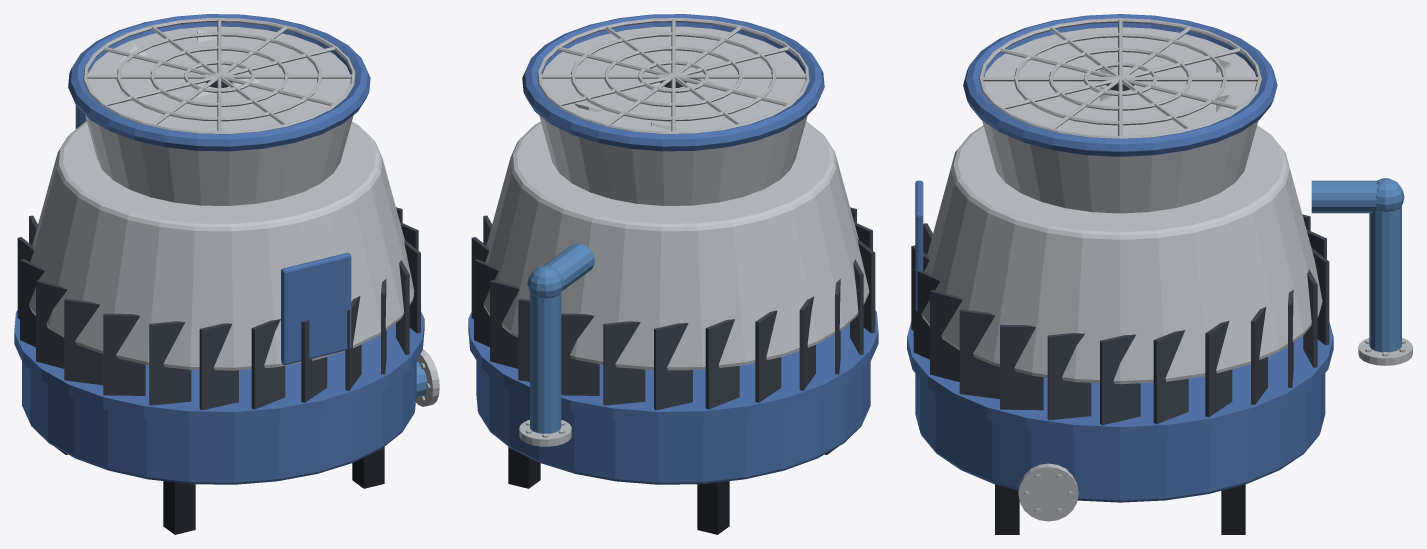
Rendered from cooling-tower.glb.
3 views of the same model, side by side, from view 1: azimuth 30°, elevation 25°; view 2: azimuth 150°, elevation 25°; view 3: azimuth 270°, elevation 25° (orthographic). The views are drawn at different scales.
Parts seen in each view (by area): view 1: tower_tower_frp, tower_tower_frp_b, tower_chiller_grille, tower_chiller_metal, tower_chiller_dark, tower_tower_pipe; view 2: tower_tower_frp, tower_tower_frp_b, tower_chiller_grille, tower_chiller_metal, tower_tower_pipe, tower_chiller_dark; view 3: tower_tower_frp, tower_tower_frp_b, tower_chiller_grille, tower_chiller_metal, tower_tower_pipe, tower_chiller_dark.
Boxes of the visible parts, <box> form: tower_tower_frp: <box>29,26,414,370</box>; tower_tower_frp_b: <box>14,14,424,484</box>; tower_chiller_grille: <box>17,207,420,410</box>; tower_chiller_metal: <box>83,18,439,406</box>; tower_chiller_dark: <box>55,81,384,534</box>; tower_tower_pipe: <box>74,102,427,397</box>; tower_tower_frp: <box>483,26,869,370</box>; tower_tower_frp_b: <box>468,14,878,484</box>; tower_chiller_grille: <box>471,207,875,410</box>; tower_chiller_metal: <box>519,18,809,446</box>; tower_tower_pipe: <box>527,243,594,433</box>; tower_chiller_dark: <box>508,81,837,534</box>; tower_tower_frp: <box>921,27,1322,384</box>; tower_tower_frp_b: <box>907,14,1333,502</box>; tower_chiller_grille: <box>911,214,1329,425</box>; tower_chiller_metal: <box>979,18,1412,521</box>; tower_tower_pipe: <box>1311,178,1404,352</box>; tower_chiller_dark: <box>995,84,1245,534</box>.
Size of the model in its own units: 1.56 by 1.64 by 1.85.
